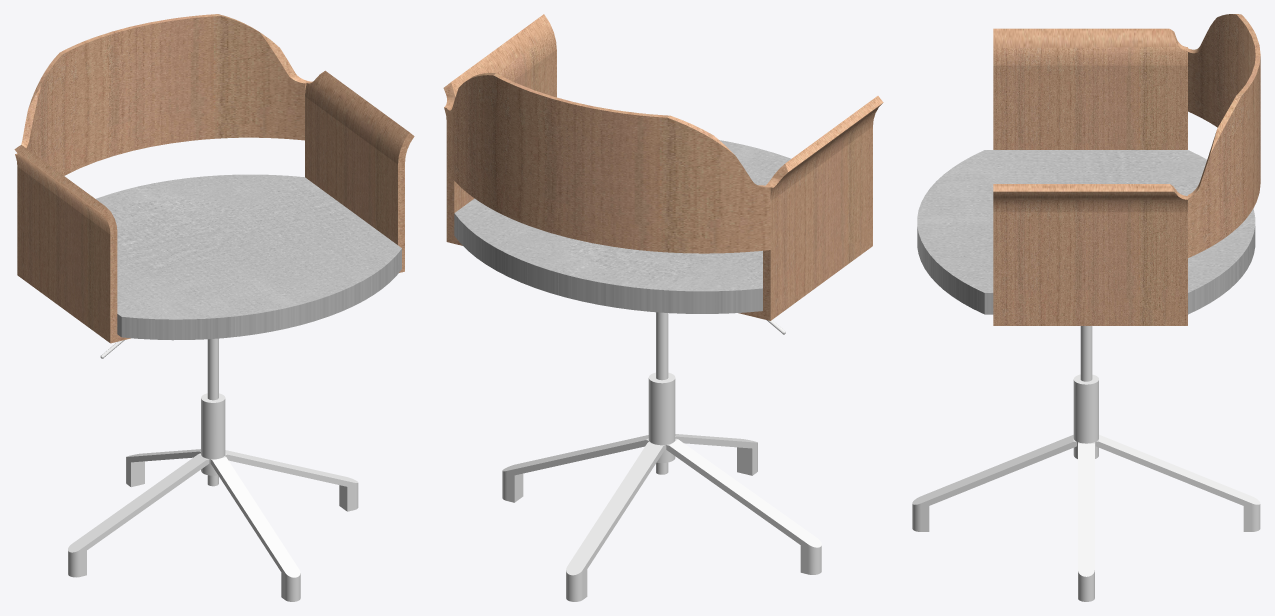
File: FJALLBERGET_Conference_Chair.obj
3 renders of one model, left to right at view 1: azimuth 30°, elevation 25°; view 2: azimuth 150°, elevation 25°; view 3: azimuth 270°, elevation 25°, orthographic. The views are drawn at different scales.
Parts seen in each view (by area): view 1: Line002, Revit_001237_15, Revit_001237_14, Line003, Revit_000254_11, Revit_000254_07, Revit_000254_13, Revit_000254_09; view 2: Revit_001237_15, Revit_001237_14, Line002, Line003, Revit_000254_09, Revit_000254_07, Revit_000254_13, Revit_000254_11, Revit_000254_08, Revit_000254_06, Revit_000254_12; view 3: Revit_001237_14, Line002, Revit_001237_15, Line003, Revit_000254_13, Revit_000254_11, Revit_000254_09, Revit_000254_08, Revit_000254_10.
Part boxes in pixels (x1=…): Line002: x1=96, y1=174, x2=401, y2=340; Revit_001237_15: x1=21, y1=14, x2=310, y2=175; Revit_001237_14: x1=14, y1=70, x2=414, y2=343; Line003: x1=201, y1=338, x2=225, y2=486; Revit_000254_11: x1=210, y1=456, x2=300, y2=583; Revit_000254_07: x1=68, y1=453, x2=209, y2=558; Revit_000254_13: x1=225, y1=450, x2=358, y2=488; Revit_000254_09: x1=126, y1=449, x2=200, y2=462; Revit_001237_15: x1=446, y1=73, x2=770, y2=253; Revit_001237_14: x1=443, y1=14, x2=883, y2=320; Line002: x1=454, y1=140, x2=791, y2=313; Line003: x1=648, y1=312, x2=675, y2=474; Revit_000254_09: x1=566, y1=441, x2=664, y2=581; Revit_000254_07: x1=666, y1=438, x2=821, y2=553; Revit_000254_13: x1=502, y1=435, x2=648, y2=477; Revit_000254_11: x1=675, y1=434, x2=757, y2=448; Revit_000254_08: x1=566, y1=569, x2=587, y2=601; Revit_000254_06: x1=800, y1=543, x2=821, y2=574; Revit_000254_12: x1=502, y1=467, x2=523, y2=502; Revit_001237_14: x1=993, y1=28, x2=1187, y2=325; Line002: x1=917, y1=150, x2=1255, y2=314; Revit_001237_15: x1=1188, y1=14, x2=1260, y2=257; Line003: x1=1073, y1=326, x2=1098, y2=458; Revit_000254_13: x1=1078, y1=442, x2=1094, y2=582; Revit_000254_11: x1=912, y1=435, x2=1076, y2=510; Revit_000254_09: x1=1095, y1=434, x2=1259, y2=510; Revit_000254_08: x1=1243, y1=501, x2=1260, y2=531; Revit_000254_10: x1=912, y1=500, x2=929, y2=531.
Bounding box in the file's own units: 447 × 617 × 411.
